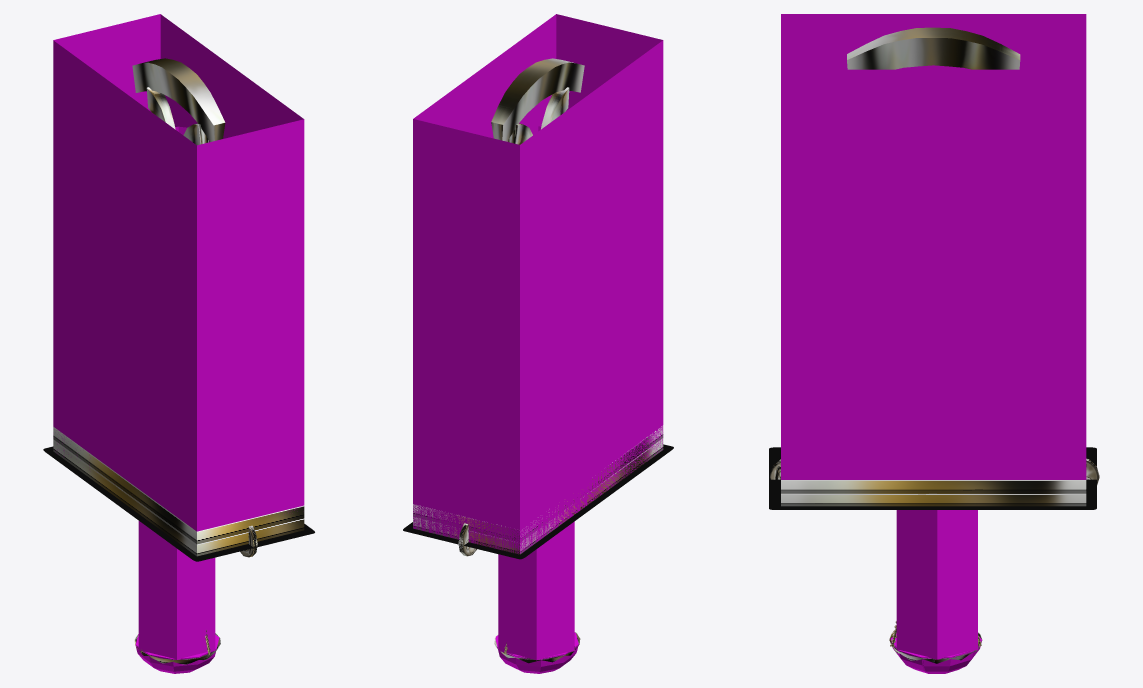
Rendered from lb_scale.fbx.
3 renders of one model, left to right at view 1: azimuth 30°, elevation 25°; view 2: azimuth 150°, elevation 25°; view 3: azimuth 270°, elevation 25°, orthographic. The views are drawn at different scales.
Parts seen in each view (by area): view 1: BaseHighCol, DefenseHighCol, Scale_base, Scale_top, shadow_3, Scale_top_4, ProsecutionCol; view 2: BaseHighCol, DefenseHighCol, Scale_top, Scale_base, shadow_3, Scale_top_4, DefenseCol; view 3: BaseHighCol, DefenseHighCol, Scale_base, Scale_top, shadow_3, DefenseCol.
Part boxes in pixels (x1=…): BaseHighCol: x1=53, y1=14, x2=304, y2=531; DefenseHighCol: x1=138, y1=521, x2=215, y2=659; Scale_base: x1=53, y1=427, x2=304, y2=556; Scale_top: x1=132, y1=58, x2=225, y2=141; shadow_3: x1=43, y1=446, x2=314, y2=561; Scale_top_4: x1=146, y1=87, x2=208, y2=145; ProsecutionCol: x1=136, y1=635, x2=219, y2=673; BaseHighCol: x1=413, y1=14, x2=663, y2=554; DefenseHighCol: x1=498, y1=521, x2=574, y2=660; Scale_top: x1=491, y1=58, x2=584, y2=141; Scale_base: x1=413, y1=425, x2=663, y2=554; shadow_3: x1=403, y1=444, x2=673, y2=559; Scale_top_4: x1=507, y1=87, x2=569, y2=144; DefenseCol: x1=495, y1=638, x2=578, y2=673; BaseHighCol: x1=781, y1=14, x2=1086, y2=479; DefenseHighCol: x1=896, y1=510, x2=977, y2=659; Scale_base: x1=781, y1=480, x2=1086, y2=506; Scale_top: x1=847, y1=27, x2=1020, y2=69; shadow_3: x1=769, y1=447, x2=1096, y2=509; DefenseCol: x1=907, y1=637, x2=981, y2=673.
Size of what is drawn, in the model's own units: 6.7 by 26.26 by 14.78.
